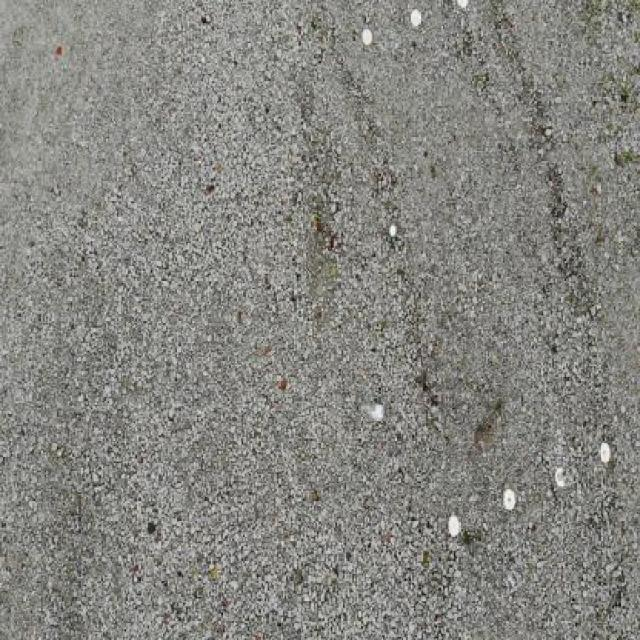Garbage: (358, 402, 386, 424), (387, 225, 396, 244)
